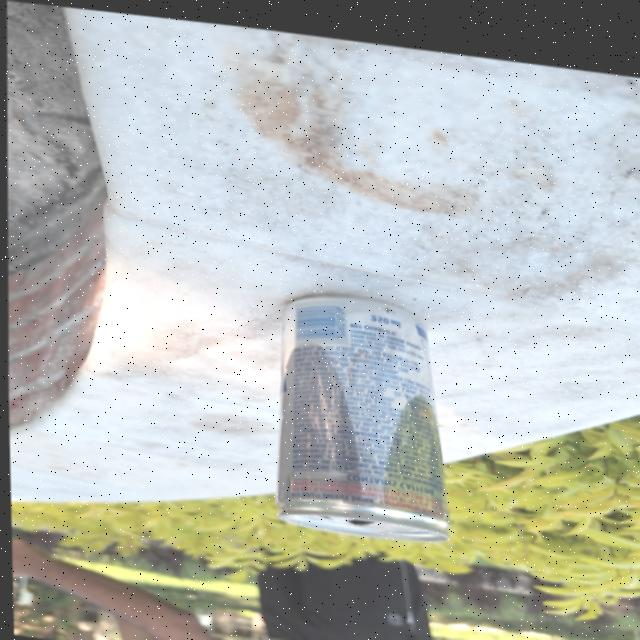Redbul: (274, 283, 442, 536)
